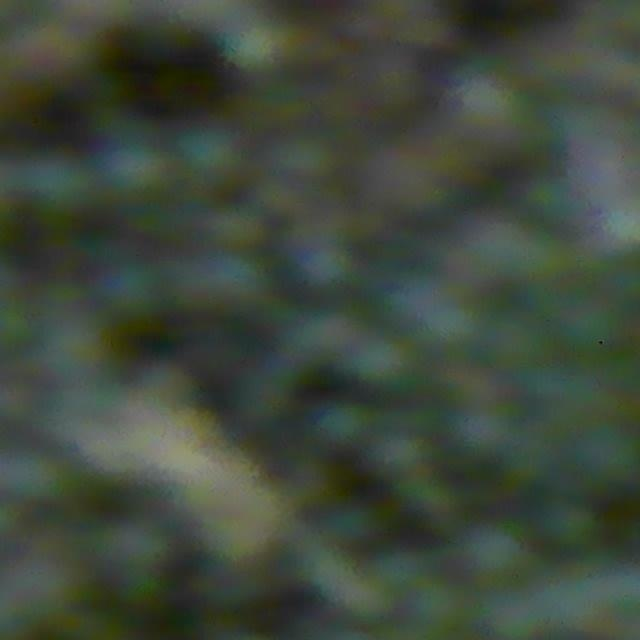SeaGrape: (572, 417, 640, 492), (461, 520, 527, 583), (176, 123, 241, 184), (348, 330, 413, 388), (314, 399, 368, 450)
